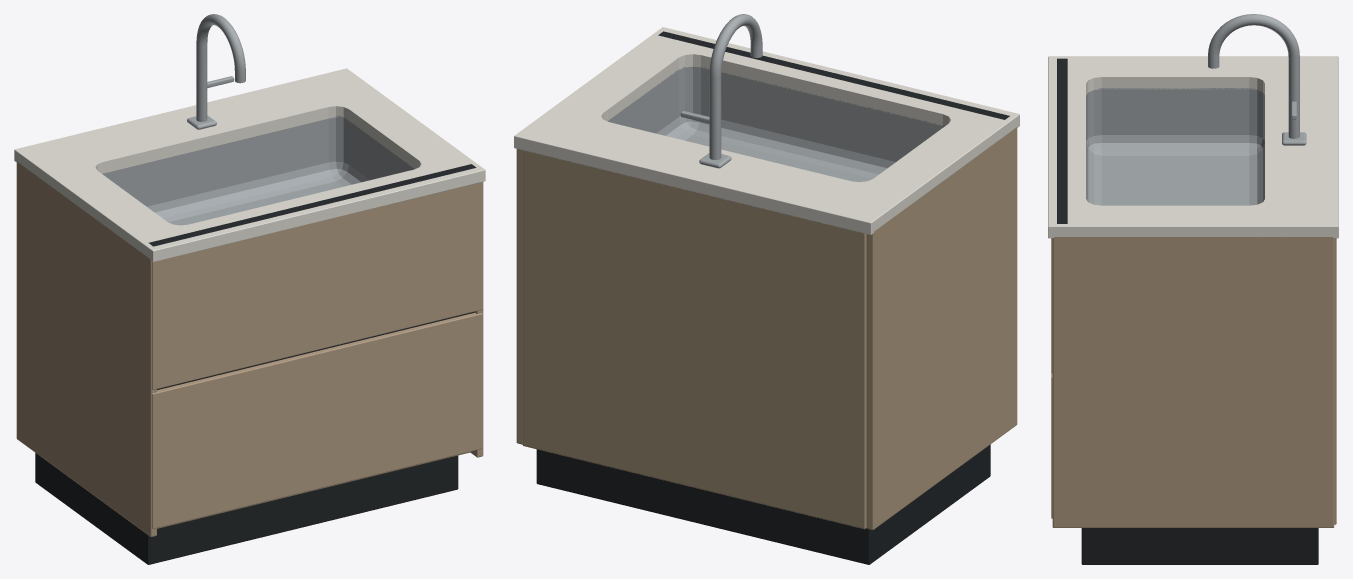
File: original-kitchen-box-sink900.glb
The picture shows the model from 3 angles, left to right: view 1: azimuth 30°, elevation 25°; view 2: azimuth 150°, elevation 25°; view 3: azimuth 270°, elevation 25°; orthographic projection. The views are drawn at different scales.
Visible parts, largest first — view 1: original-kitchen-box-sink900; view 2: original-kitchen-box-sink900; view 3: original-kitchen-box-sink900.
Boxes of the visible parts, x1,y1,x2,y2 form: original-kitchen-box-sink900: [14, 14, 485, 564]; original-kitchen-box-sink900: [514, 14, 1019, 564]; original-kitchen-box-sink900: [1048, 14, 1338, 564].
Size of the model in its own units: 0.9 by 1.16 by 0.65.
